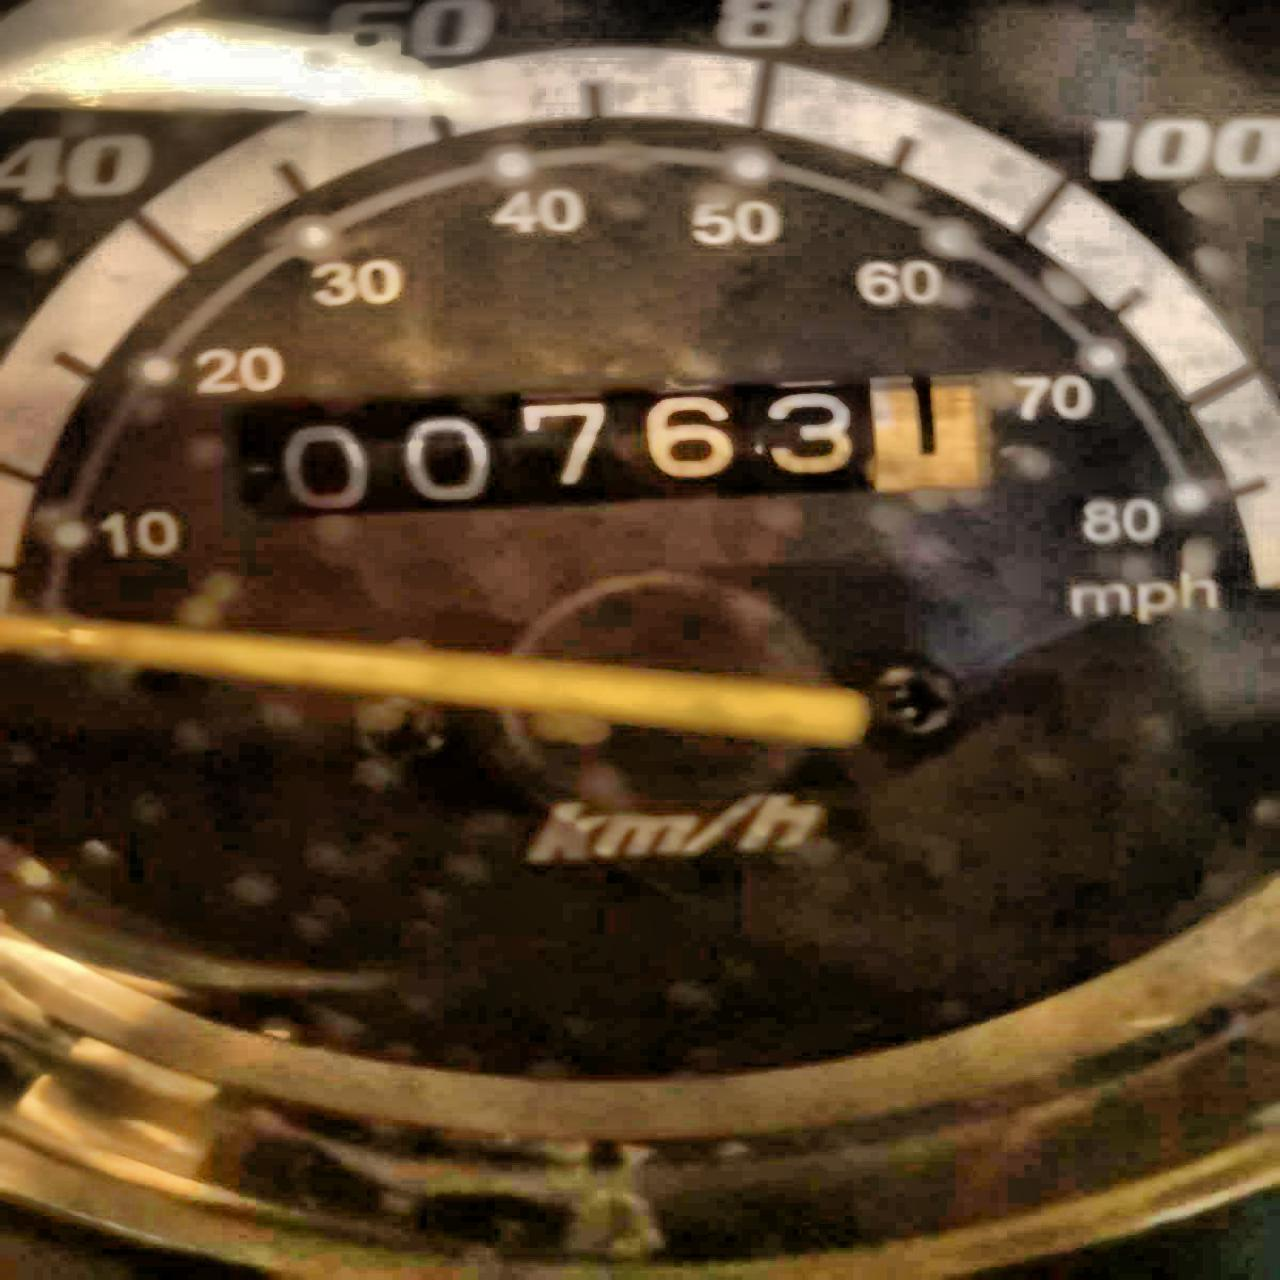0: (402, 414, 490, 499), (282, 424, 368, 510)
1: (906, 375, 939, 456)
3: (762, 392, 857, 478)
6: (644, 395, 733, 478)
7: (518, 400, 606, 485)
odometer: (227, 374, 999, 526)
